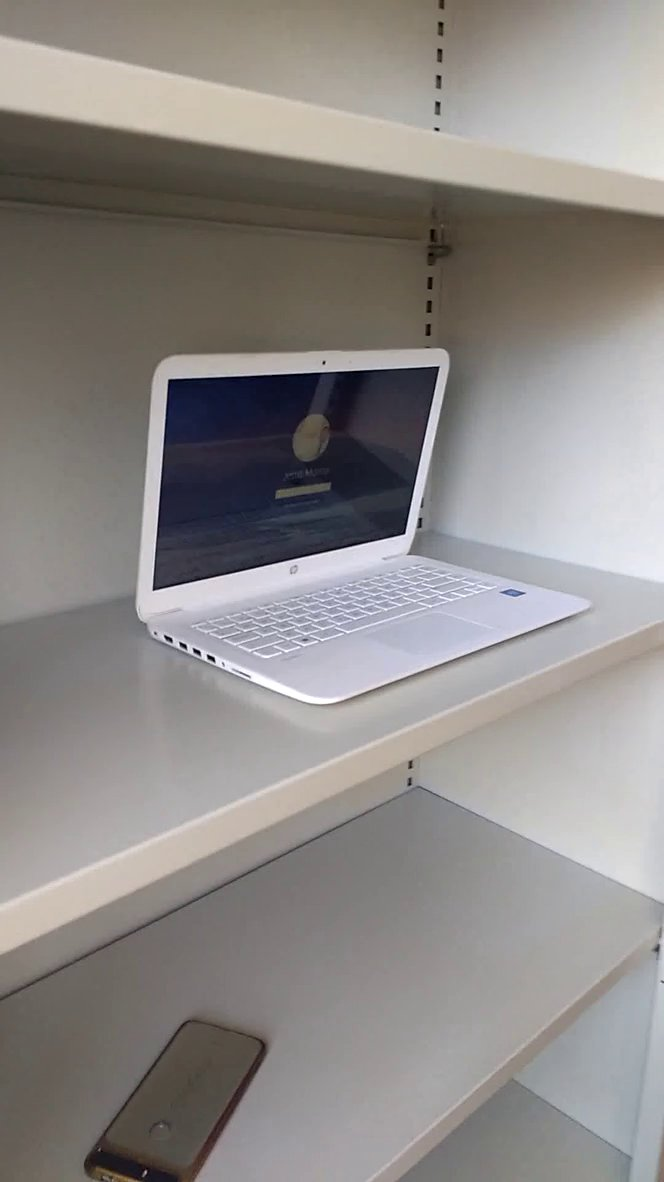laptop: (118, 318, 613, 723)
phone: (68, 1009, 281, 1180)
